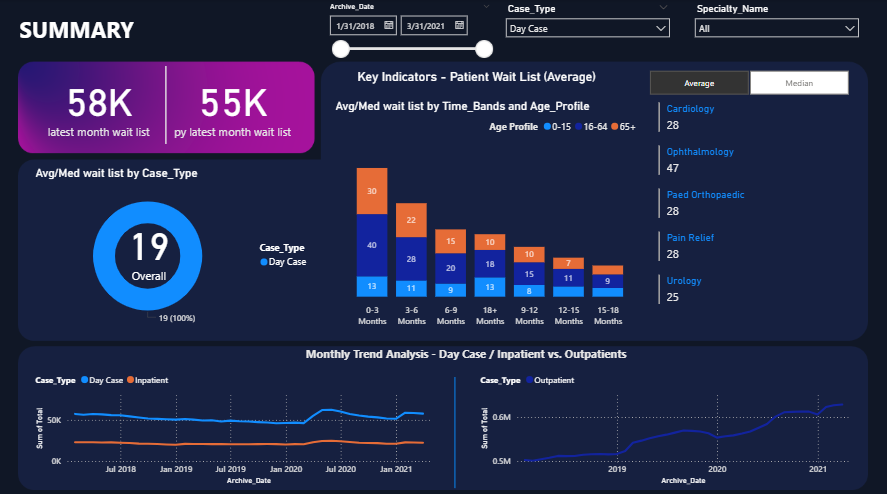

What the dashboard file says about the page in this screenshot:
{"tool":"powerbi","page":{"name":"Summary","canvas":[1280,720],"ordinal":0},"visuals":[{"type":"card","fields":{"Values":["All_Data.latest month wait list"]},"box":[48,96,192,112],"z":0},{"type":"card","fields":{"Values":["All_Data.py latest month wait list"]},"box":[240,96,192,112],"z":1000},{"type":"slicer","fields":{"Values":["Calculation Method.calc method"]},"box":[912,96,336,48],"z":2000},{"type":"donutChart","fields":{"Category":["All_Data.Case_Type"],"Y":["All_Data.Avg/Med wait list"]},"box":[48,240,416,240],"z":3000},{"type":"columnChart","fields":{"Y":["All_Data.Avg/Med wait list"],"Category":["All_Data.Time_Bands"],"Series":["All_Data.Age_Profile"]},"box":[480,144,448,336],"z":4000},{"type":"multiRowCard","fields":{"Values":["All_Data.Specialty_Name","All_Data.Avg/Med wait list"]},"box":[944,144,288,336],"z":5000},{"type":"lineChart","fields":{"Y":["Sum(All_Data.Total)"],"Series":["All_Data.Case_Type"],"Category":["All_Data.Archive_Date"]},"box":[48,528,592,176],"z":6000},{"type":"lineChart","fields":{"Y":["Sum(All_Data.Total)"],"Series":["All_Data.Case_Type"],"Category":["All_Data.Archive_Date"]},"box":[688,528,544,176],"z":7000},{"type":"slicer","fields":{"Values":["All_Data.Archive_Date"]},"box":[464,0,256,112],"z":8000},{"type":"slicer","fields":{"Values":["All_Data.Case_Type"]},"box":[720,0,256,80],"z":9000},{"type":"slicer","fields":{"Values":["All_Data.Specialty_Name"]},"box":[992,0,256,80],"z":10000},{"type":"textbox","box":[16,16,432,64],"z":11000},{"type":"shape","box":[528,544,256,160],"z":12000},{"type":"shape","box":[112,96,256,112],"z":13000},{"type":"textbox","box":[368,496,608,32],"z":14000},{"type":"card","fields":{"Values":["All_Data.Avg/Med wait list"]},"box":[160,304,112,112],"z":15000},{"type":"card","fields":{"Values":["All_Data.Dynamic Title"]},"box":[480,80,416,64],"z":16000}]}

Visuals, with their boxes in screenshot pixels (x1, y1, x2, y2), scaled from the page's 1280x720 canvas onto the 887x494 screenshot:
card - All_Data.latest month wait list: {"left": 33, "top": 66, "right": 166, "bottom": 143}
card - All_Data.py latest month wait list: {"left": 166, "top": 66, "right": 299, "bottom": 143}
slicer - Calculation Method.calc method: {"left": 632, "top": 66, "right": 865, "bottom": 99}
donutChart - All_Data.Case_Type x All_Data.Avg/Med wait list: {"left": 33, "top": 165, "right": 322, "bottom": 329}
columnChart - All_Data.Avg/Med wait list x All_Data.Time_Bands: {"left": 333, "top": 99, "right": 643, "bottom": 329}
multiRowCard - All_Data.Specialty_Name x All_Data.Avg/Med wait list: {"left": 654, "top": 99, "right": 854, "bottom": 329}
lineChart - Sum(All_Data.Total) x All_Data.Case_Type: {"left": 33, "top": 362, "right": 444, "bottom": 483}
lineChart - Sum(All_Data.Total) x All_Data.Case_Type: {"left": 477, "top": 362, "right": 854, "bottom": 483}
slicer - All_Data.Archive_Date: {"left": 322, "top": 0, "right": 499, "bottom": 77}
slicer - All_Data.Case_Type: {"left": 499, "top": 0, "right": 676, "bottom": 55}
slicer - All_Data.Specialty_Name: {"left": 687, "top": 0, "right": 865, "bottom": 55}
textbox: {"left": 11, "top": 11, "right": 310, "bottom": 55}
shape: {"left": 366, "top": 373, "right": 543, "bottom": 483}
shape: {"left": 78, "top": 66, "right": 255, "bottom": 143}
textbox: {"left": 255, "top": 340, "right": 676, "bottom": 362}
card - All_Data.Avg/Med wait list: {"left": 111, "top": 209, "right": 188, "bottom": 285}
card - All_Data.Dynamic Title: {"left": 333, "top": 55, "right": 621, "bottom": 99}
